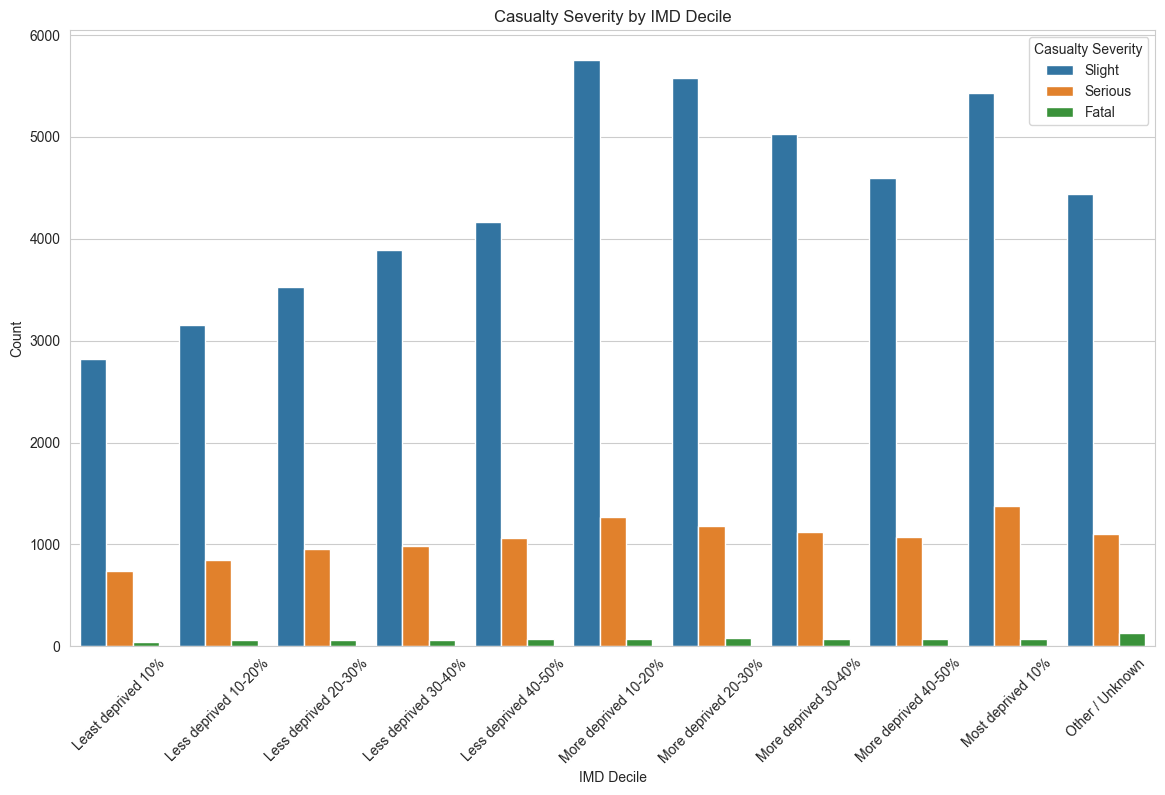

This screenshot's page, from the dashboard's own definition file:
{"tool":"powerbi","page":{"name":"IMD Decile / Casualty Severity","canvas":[1280,720],"ordinal":7},"visuals":[{"type":"clusteredColumnChart","fields":{"Category":["clean_df.casualty_imd_decile"],"Series":["clean_df.casualty_severity"],"Y":["CountNonNull(clean_df.accident_index)"]},"box":[9.7,0,1270.3,719.8],"z":0}]}

Visuals, with their boxes on the page's 1280x720 design canvas (x1, y1, x2, y2). These are canvas units, not pixel positions in the 1165x795 screenshot, which may show the page scaled, cropped or inside an application window:
clusteredColumnChart - clean_df.casualty_imd_decile x clean_df.casualty_severity: box=[10, 0, 1280, 720]
